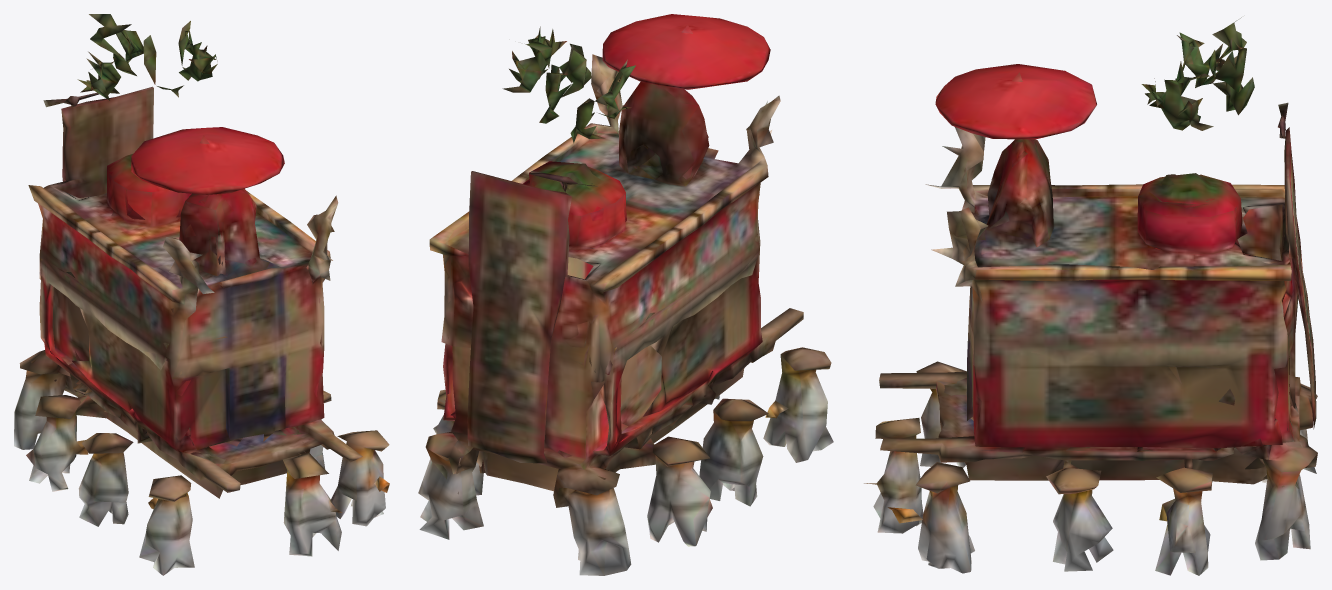
Rendered from 伯牙山.glb.
3 renders of one model, left to right at view 1: azimuth 30°, elevation 25°; view 2: azimuth 150°, elevation 25°; view 3: azimuth 270°, elevation 25°, orthographic. The views are drawn at different scales.
Visible parts, largest first — view 1: Mesh1.0; view 2: Mesh1.0; view 3: Mesh1.0.
Part boxes in pixels (bbox=[...]): Mesh1.0: bbox=[14, 14, 389, 575]; Mesh1.0: bbox=[418, 14, 833, 575]; Mesh1.0: bbox=[864, 17, 1317, 575].
Size of the model in its own units: 3.6 by 5.85 by 5.04.
Materials: 1 (1 with a texture image).
